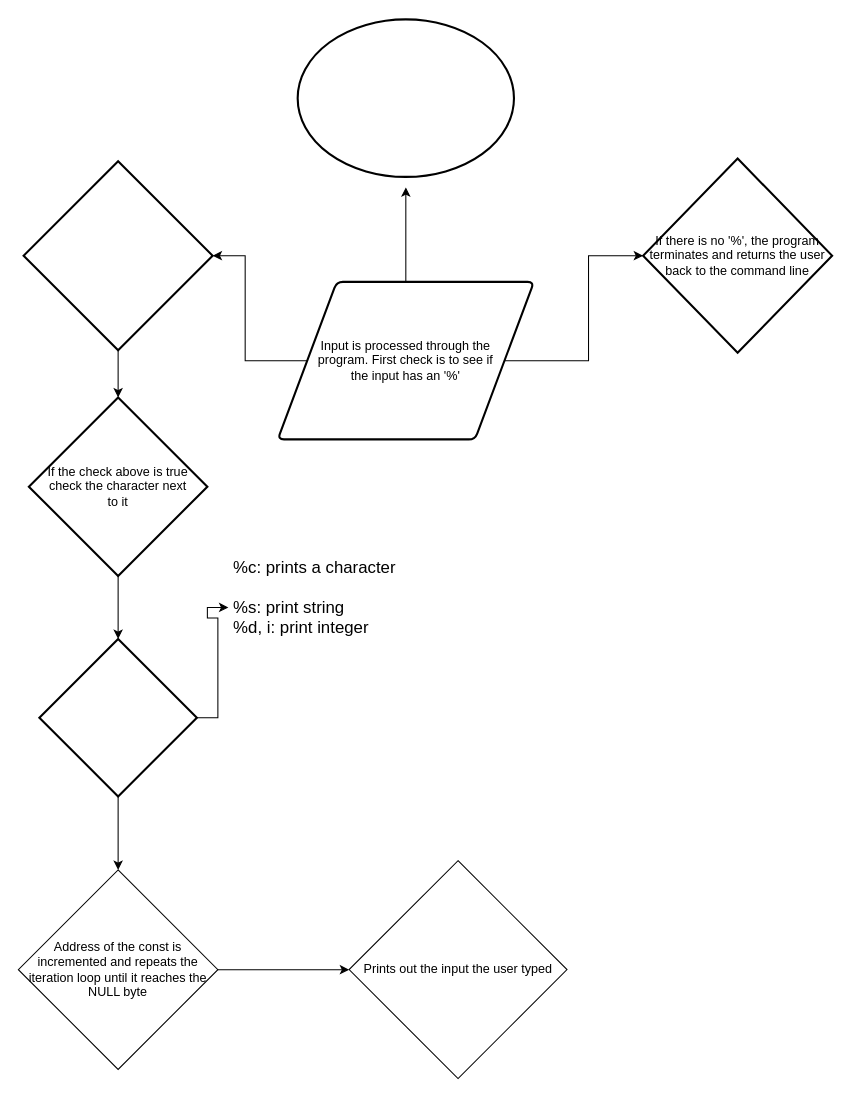
Some shapes in this 852 by 1097 pixel diagram are drawn without their labels. The shapes that lost their labels are listed below. From the top down, each one's box as (x1, y1, x2, y2) in pixels, then its label:
(296, 18, 514, 177): Char * being passed to the function The pointer points to the user's input
(22, 160, 213, 351): If it does contain an '%' next check if it has specifier
(38, 637, 197, 797): Program checks if the character is an 's', 'c',
